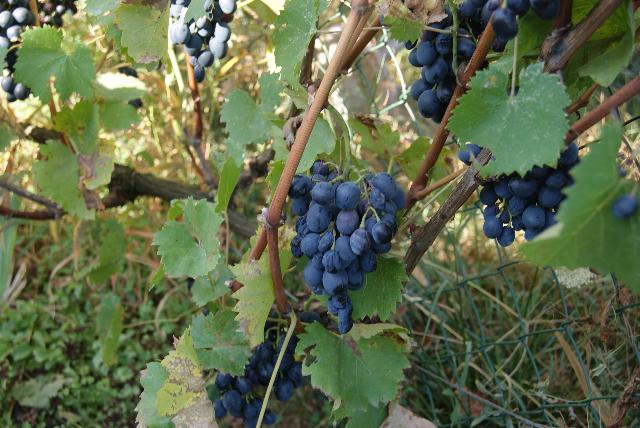grapes: (289, 161, 406, 334), (409, 0, 560, 124), (214, 312, 305, 428)
